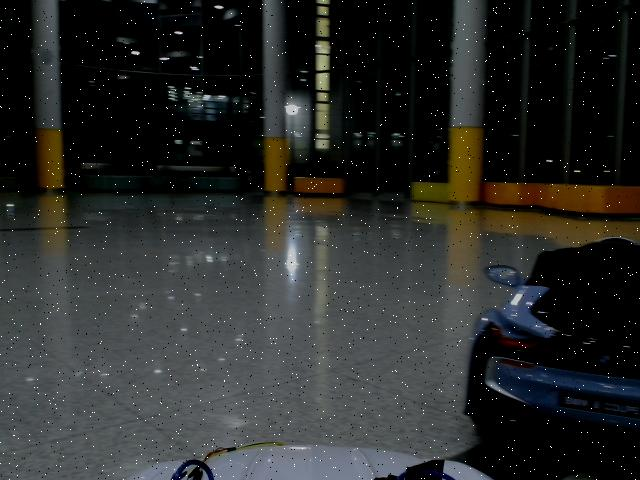car: (464, 237, 640, 442)
